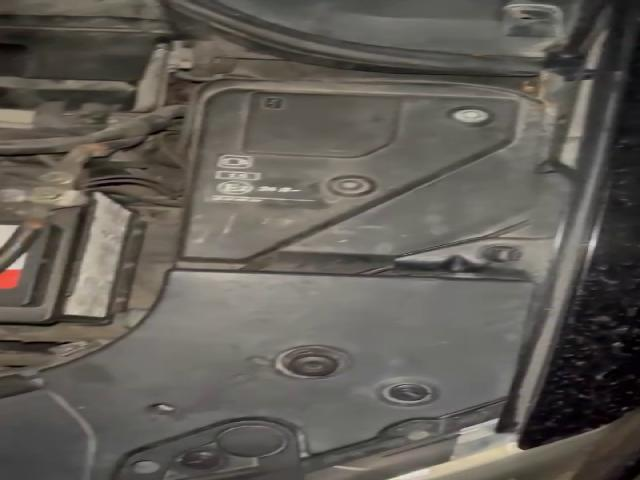accumulator: (0, 173, 145, 326)
fuse_box: (180, 91, 517, 271)
